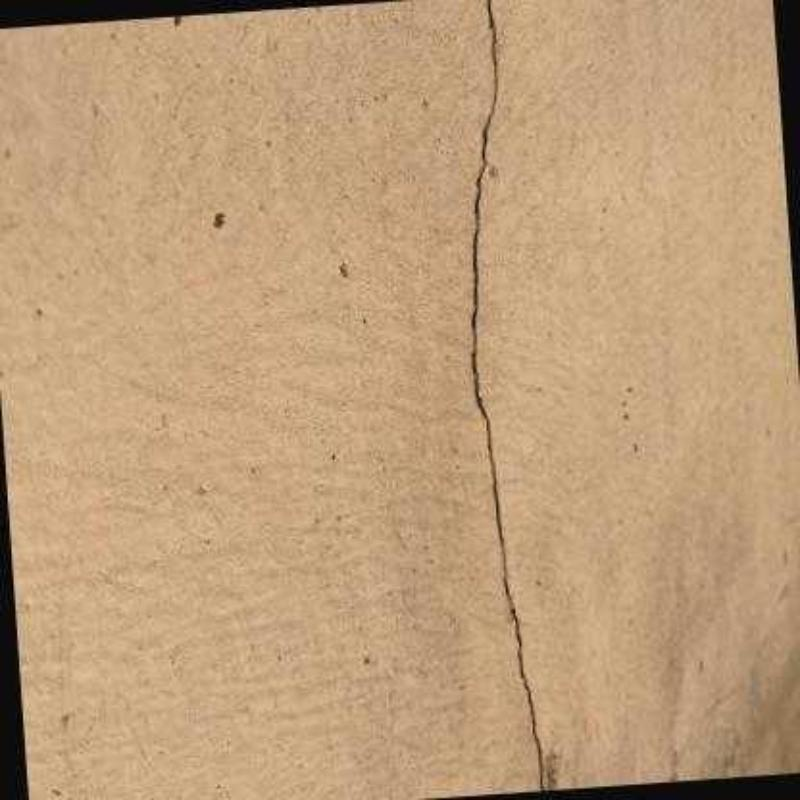pothole: (469, 0, 543, 791)
